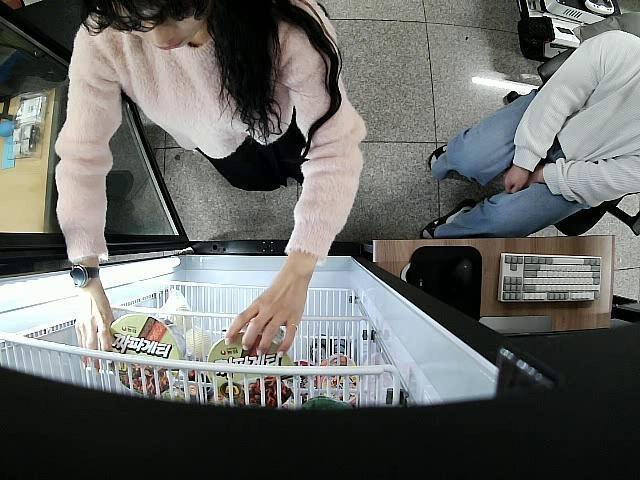03_chapagetti_L: (206, 332, 296, 410), (108, 314, 185, 396)
